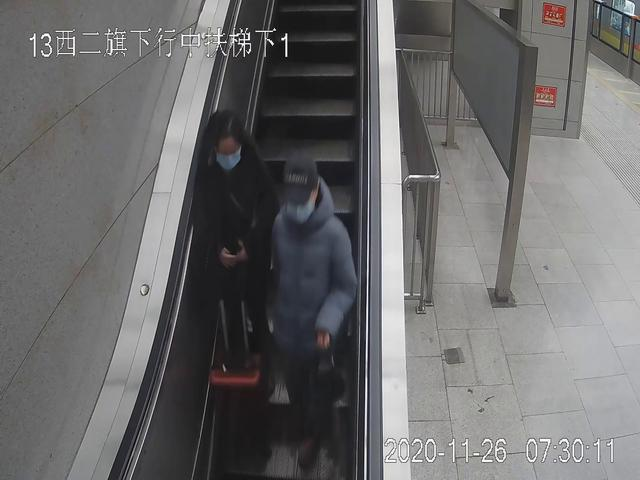person: (274, 160, 359, 469), (203, 112, 276, 398)
